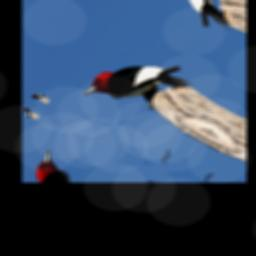Woodpecker: (81, 32, 200, 139)
